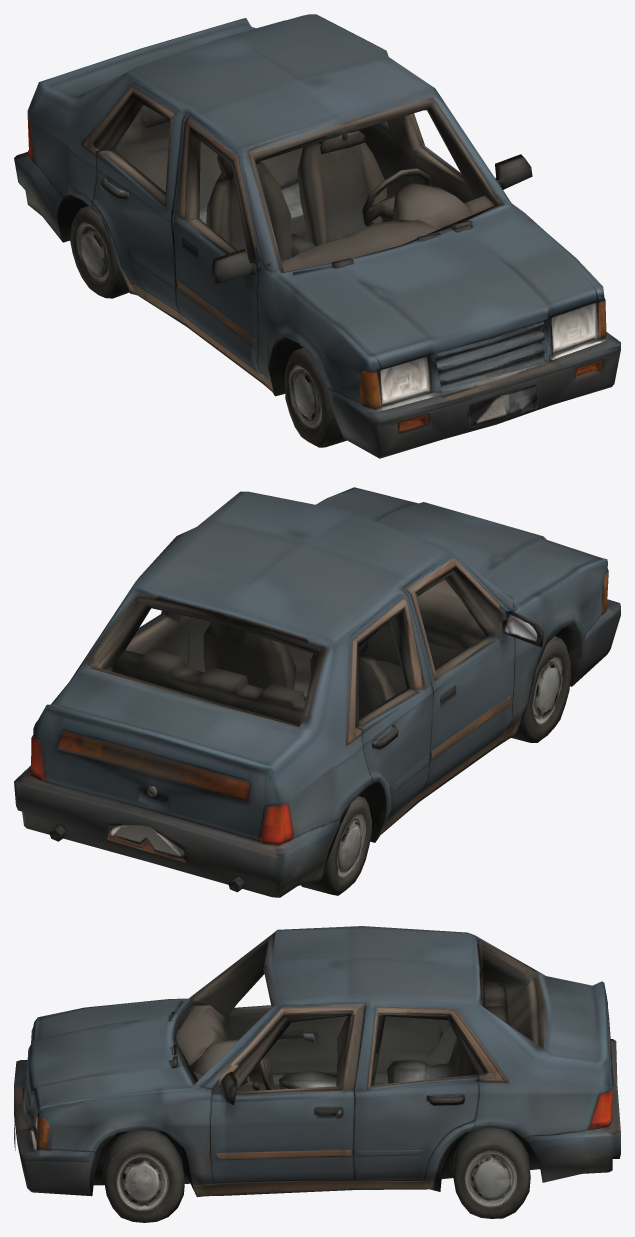
Rendered from SM_Vehicle_BlueSedan_01.fbx.
The picture shows the model from 3 angles, top to bottom: view 1: azimuth 30°, elevation 25°; view 2: azimuth 150°, elevation 25°; view 3: azimuth 270°, elevation 25°; orthographic projection. The views are drawn at different scales.
Parts seen in each view (by area): view 1: SM_Vehicle_BlueSedan_01; view 2: SM_Vehicle_BlueSedan_01; view 3: SM_Vehicle_BlueSedan_01.
Part boxes in pixels (x1,y1,x2,y2): SM_Vehicle_BlueSedan_01: [14, 14, 620, 458]; SM_Vehicle_BlueSedan_01: [14, 487, 620, 897]; SM_Vehicle_BlueSedan_01: [14, 926, 620, 1222].
Size of the model in its own units: 0.5332 by 0.3926 by 0.998.
1 material, 1 textured.
